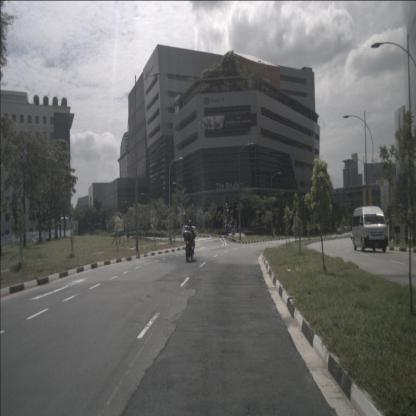vehicle-car: (351, 207, 388, 252), (182, 226, 198, 237)
vehicle-motorcycle: (183, 220, 196, 261)
